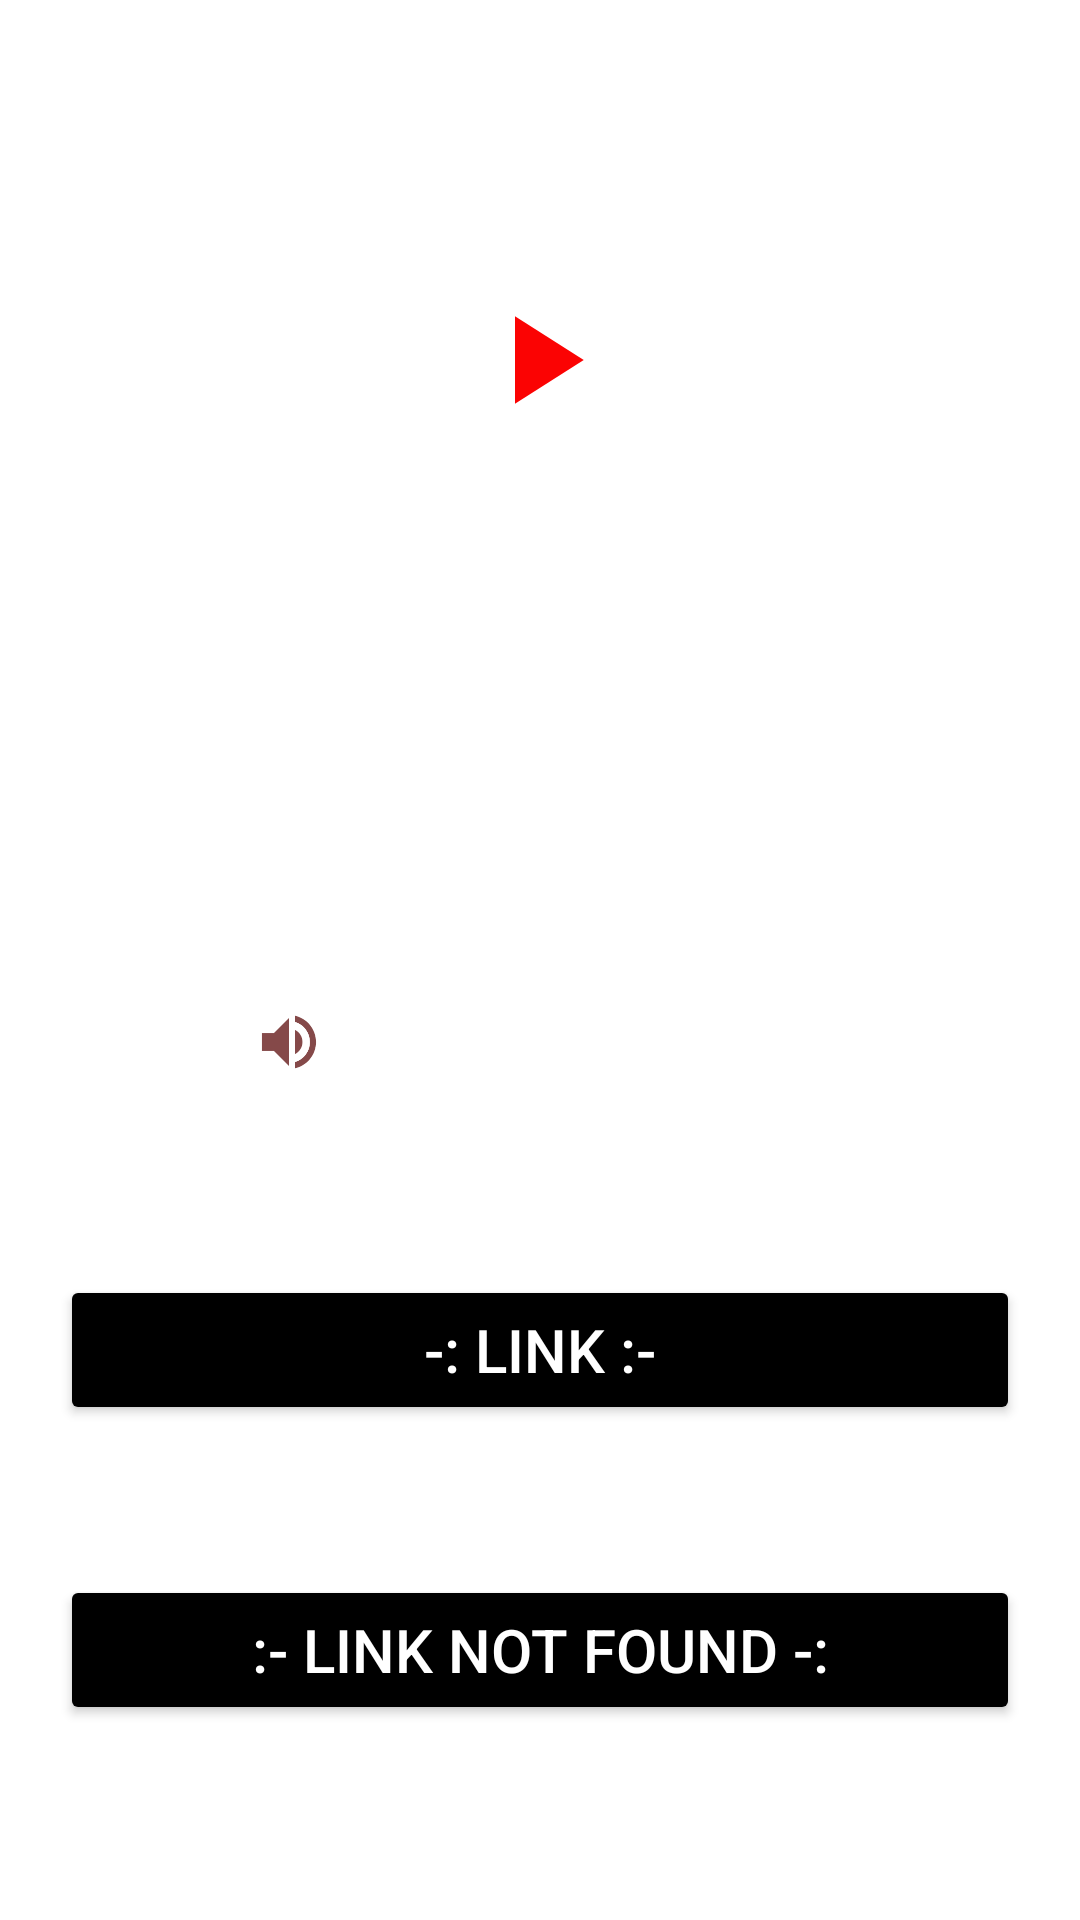

Named icons in this screenshot (1080 x 1920) and their centers, (x,y):
To show Play Button on Image: (549,360)
